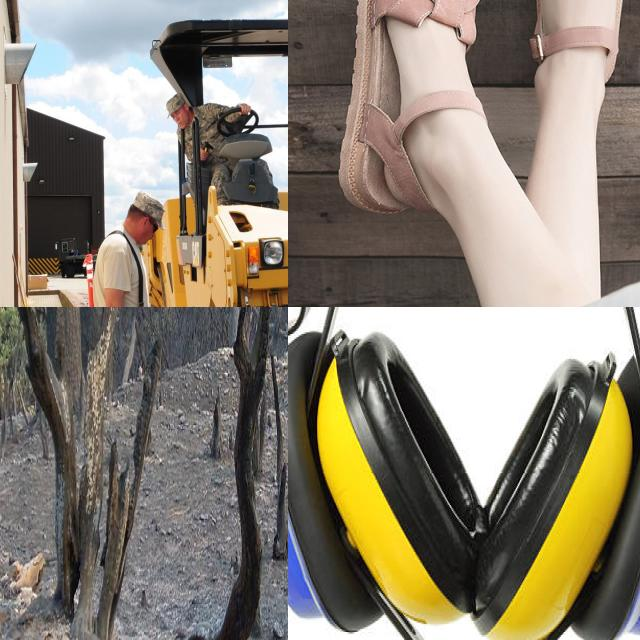Ear-protection: (288, 307, 640, 640), (309, 307, 640, 637)
No_Ear-Protection: (118, 192, 168, 251), (164, 90, 196, 136)
Sandals: (288, 0, 640, 269)
